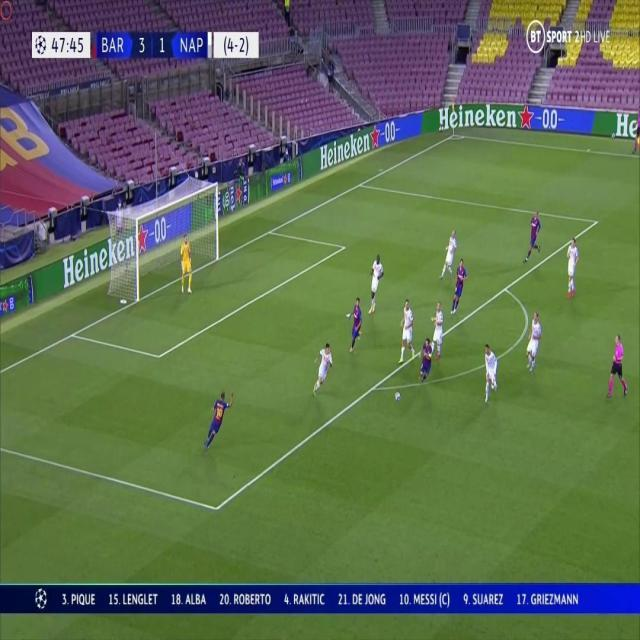ball: (394, 389, 402, 404)
goalkeeper: (178, 231, 194, 295)
player: (204, 390, 234, 450), (397, 297, 416, 364), (311, 342, 334, 395), (523, 208, 544, 265), (367, 253, 386, 315), (345, 296, 364, 355), (439, 228, 459, 281), (526, 309, 543, 371), (483, 340, 500, 402), (565, 235, 580, 299), (452, 259, 469, 314), (430, 300, 446, 358), (418, 338, 433, 386)
referee: (606, 331, 628, 400), (630, 110, 639, 154)
